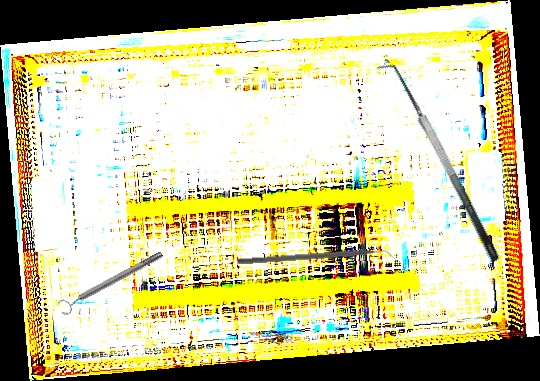Chopper: (237, 247, 397, 273)
Fixation Ring: (55, 246, 167, 318)
Spatula Surgical: (375, 54, 503, 272)
